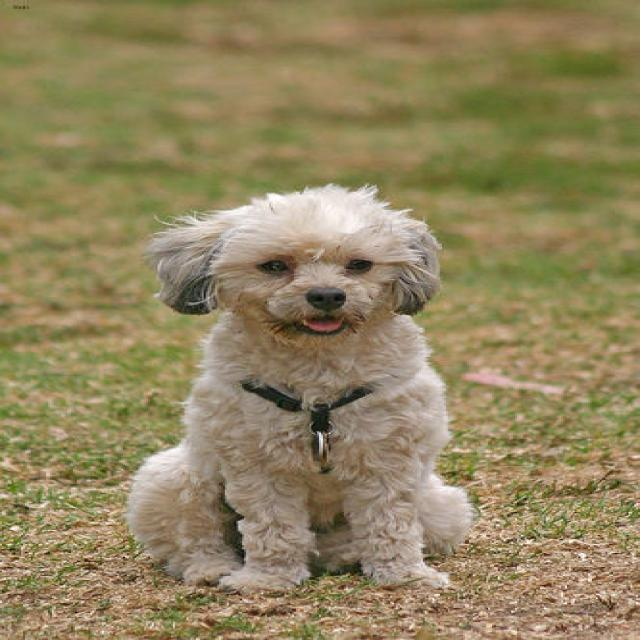dog-havanese: (117, 179, 490, 600)
